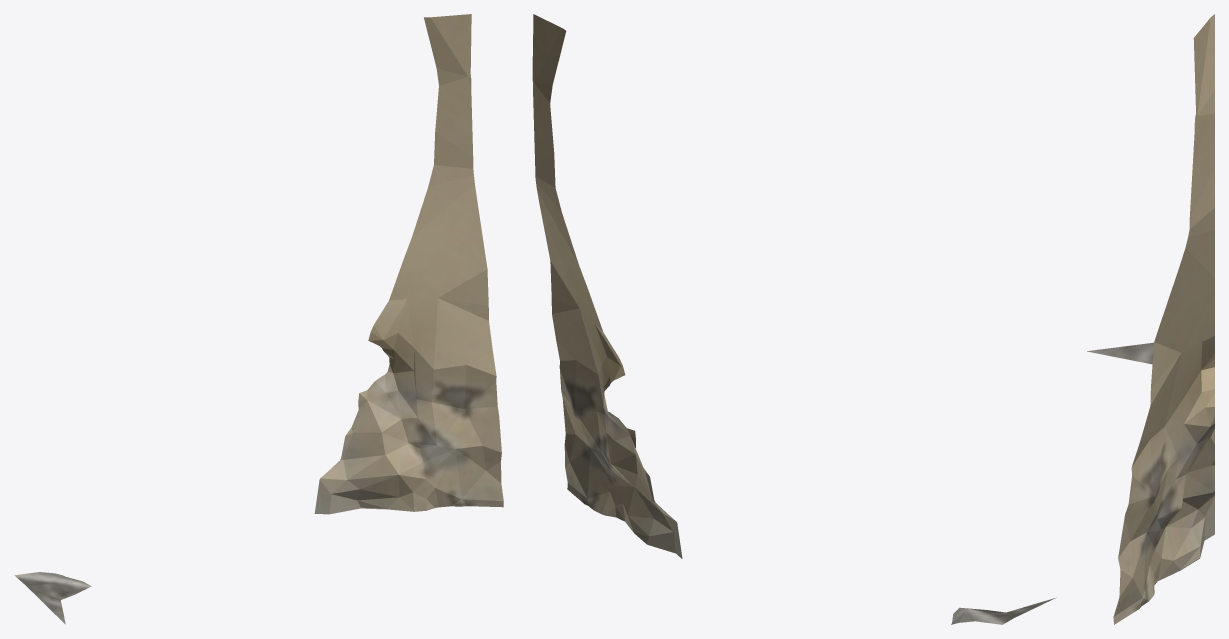
The picture shows the model from 3 angles, left to right: view 1: azimuth 30°, elevation 25°; view 2: azimuth 150°, elevation 25°; view 3: azimuth 270°, elevation 25°; orthographic projection. The views are drawn at different scales.
Size of the model in its own units: 1.67 by 1.67 by 0.3335.
1 material, 1 textured.
